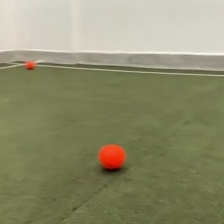ball: (95, 140, 127, 174), (24, 58, 36, 69)
